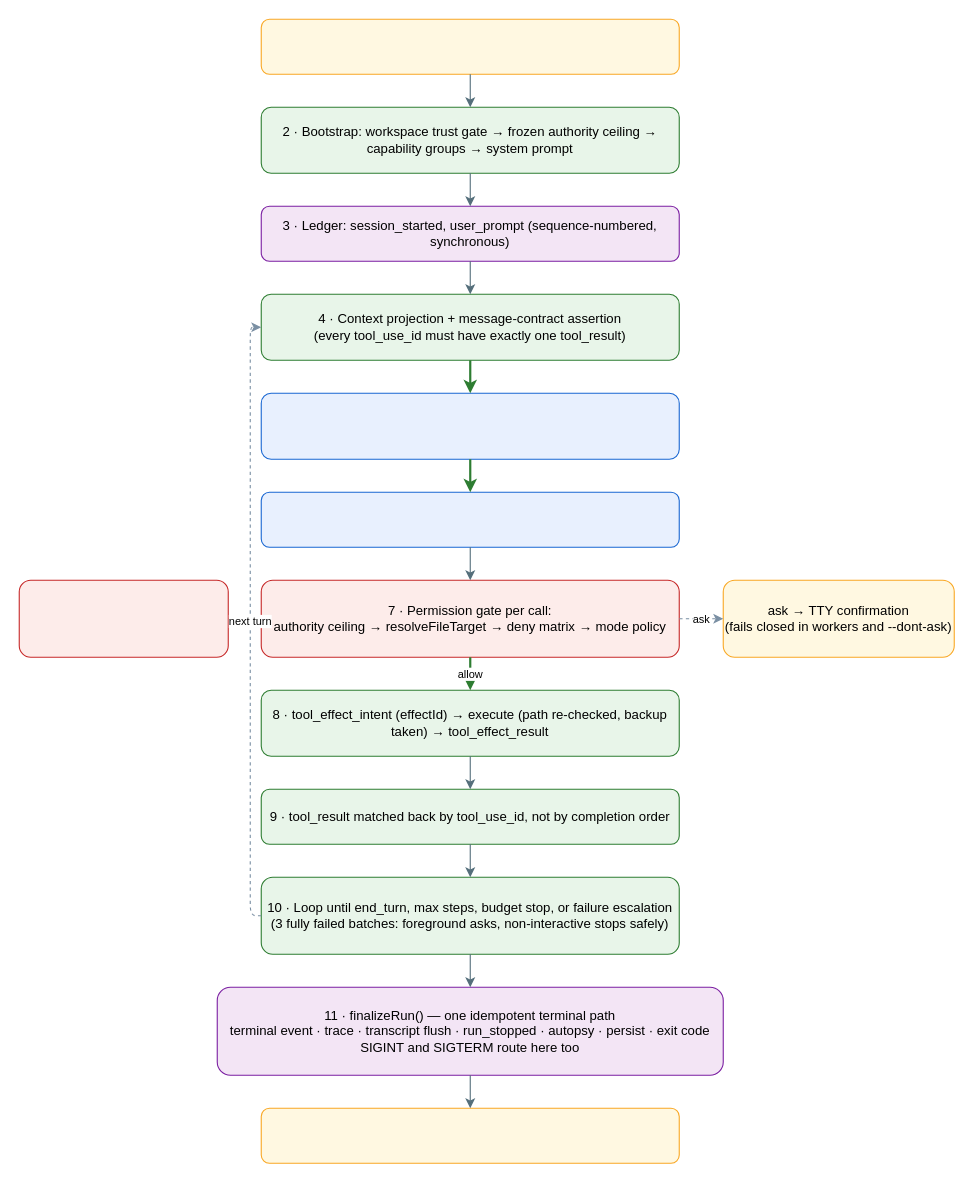
The diagram is 974 pixels wide and 1183 high, and some of its shapes have lost their labels. The centre of each missing label's shape, as x and y in pixels:
1 · Operator supplies prompt, flags and --cwd: the point at 469,46
12 · Final answer + [runner usage] token / cost summary on stderr: the point at 469,1135
5 · POST /v1/messages → bridge → HTTPS + OAuth Bearer → api.anthropic.com: the point at 469,425
6 · Response: text blocks + tool_use blocks (streamed or buffered): the point at 469,519
deny / plan_only → recorded proposal, nothing executed: the point at 123,618
